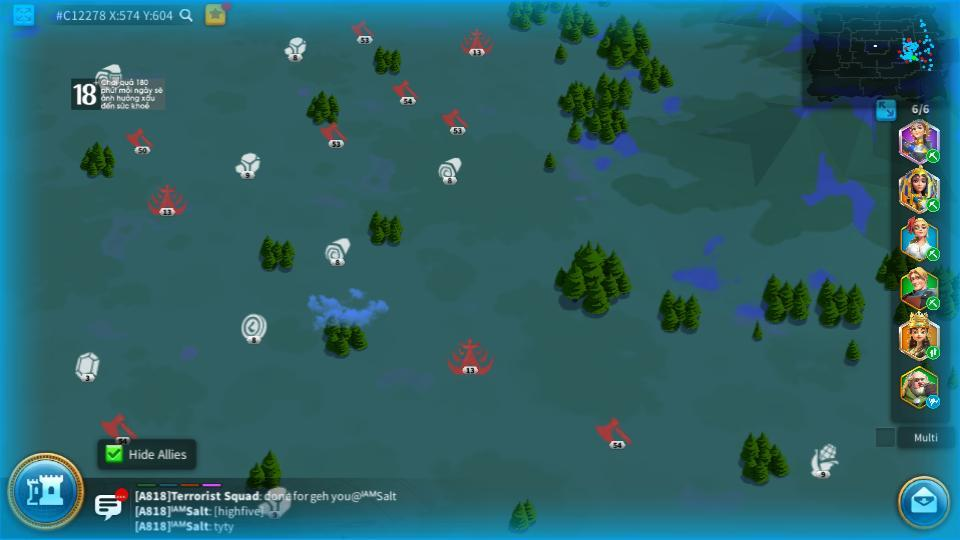gem-z-out: (73, 351, 102, 382)
march_farming: (925, 197, 941, 212), (924, 345, 939, 359), (925, 149, 941, 162), (926, 297, 941, 310), (924, 248, 939, 260)
march_idle: (925, 396, 942, 408)
